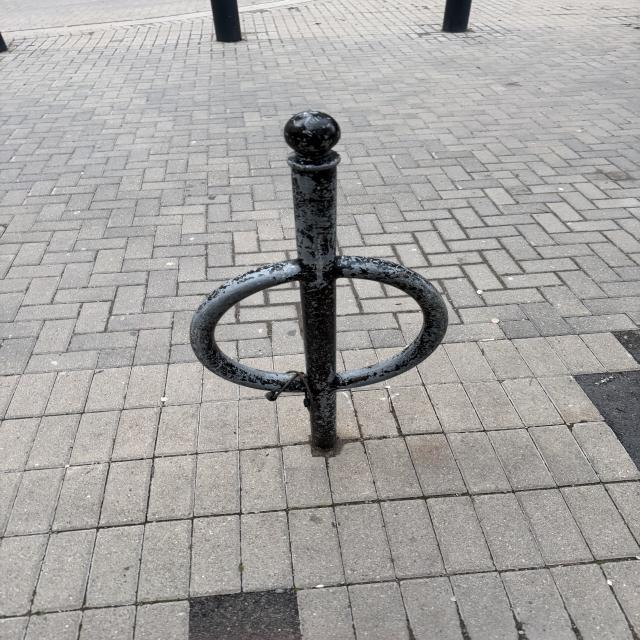Bicycle Rack: (186, 109, 450, 449)
